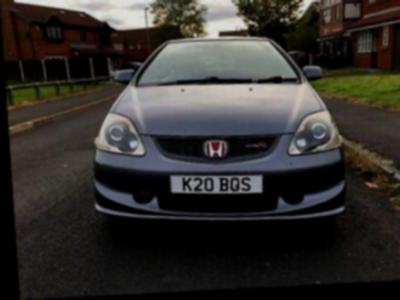License_Plate: (166, 164, 271, 204)
